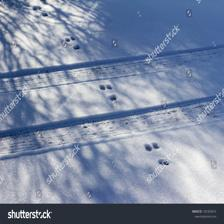rabbit: (142, 141, 172, 169), (98, 84, 119, 106), (62, 35, 84, 52)
